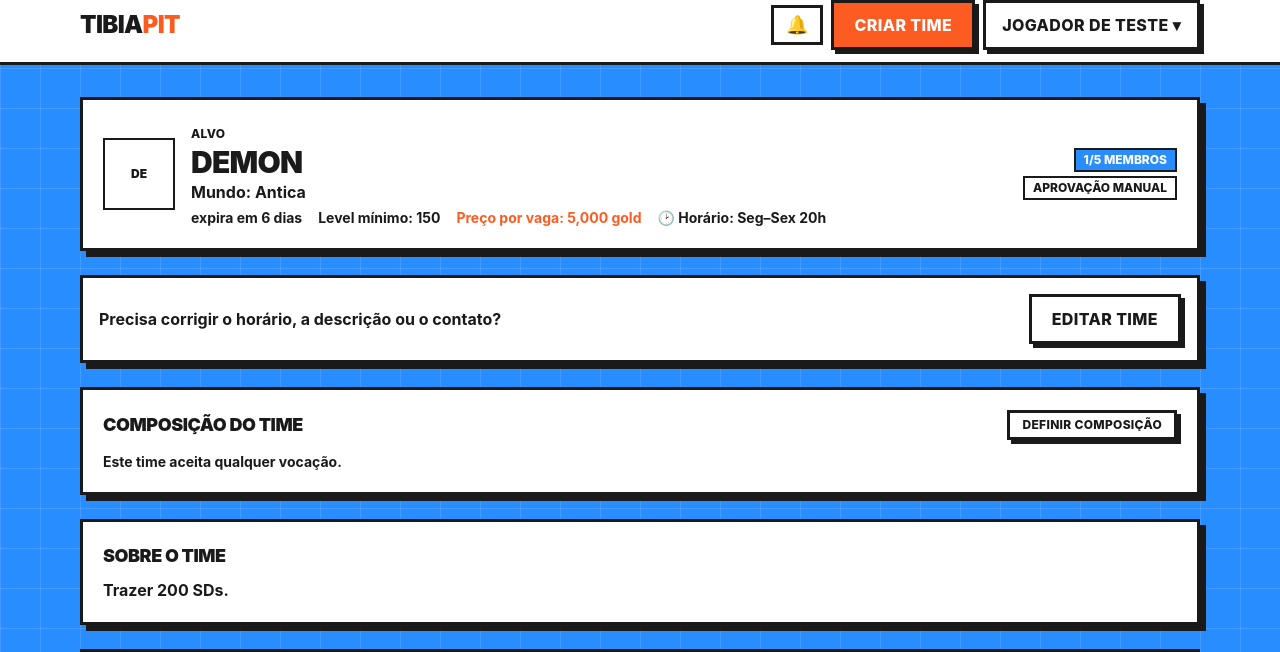
Scenario: TeamDetailPage — editar o time › recusa do backend aparece e o formulario continua aberto
Click the button "Editar time" at (1105, 319), box top-left (1029, 294), bottom-right (1181, 344)
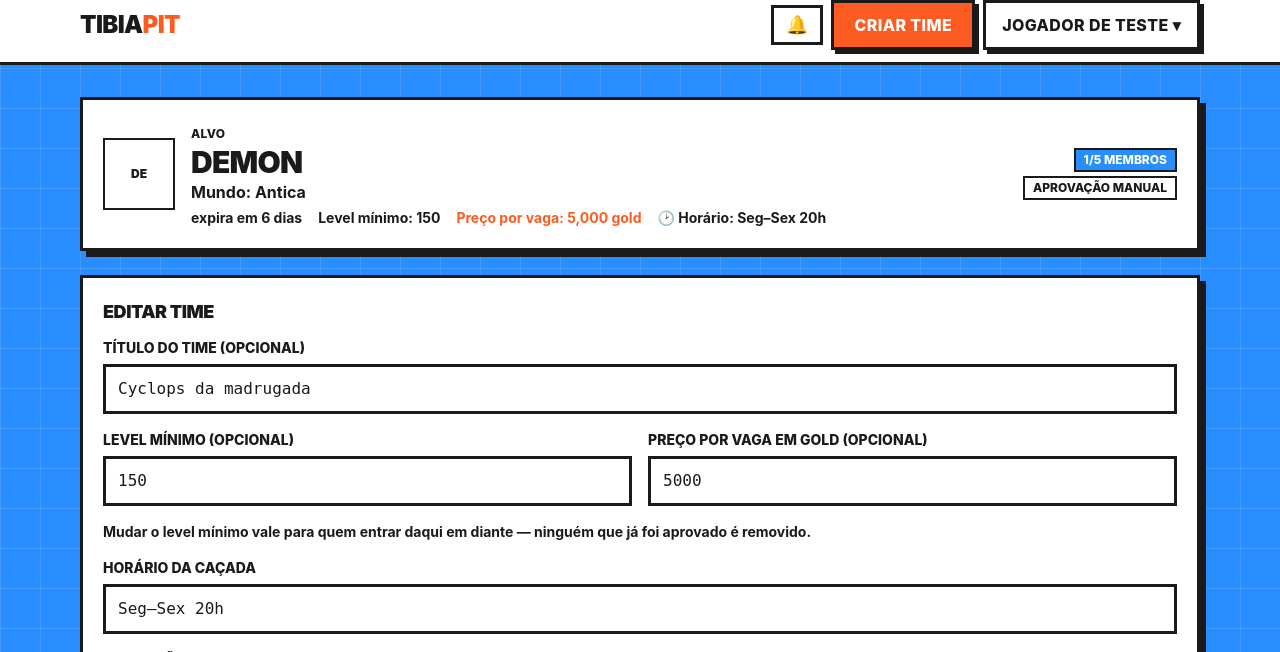
Clear the number field labelled "Level mínimo (opcional)" at (368, 481), box top-left (103, 456), bottom-right (632, 506)
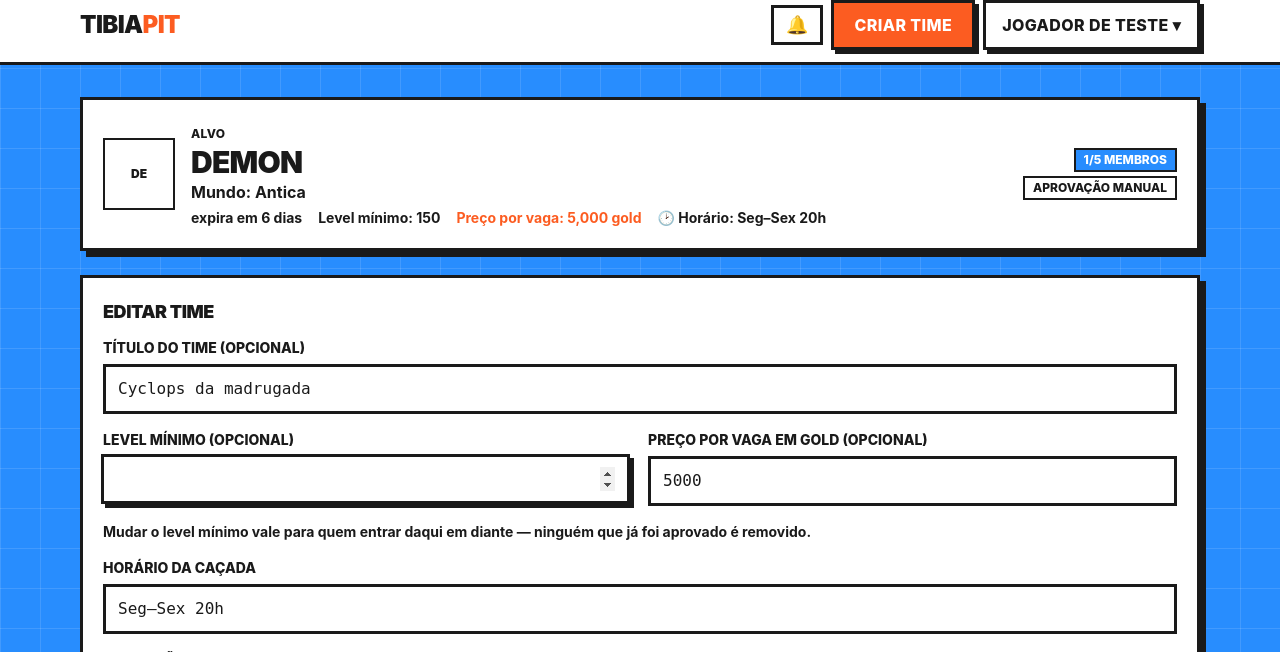
Type "900" into the number field labelled "Level mínimo (opcional)" at (366, 479), box top-left (101, 454), bottom-right (630, 504)
(page scrolled)
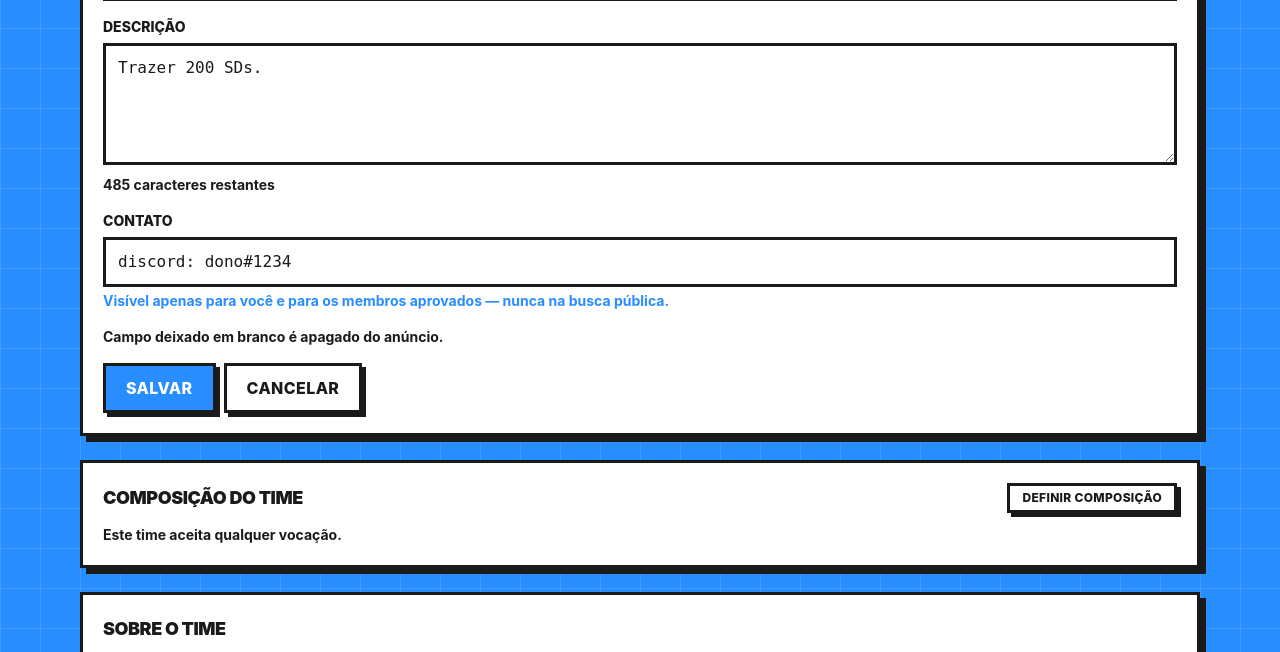
Click the button "Salvar" at (159, 388), box top-left (103, 363), bottom-right (216, 413)
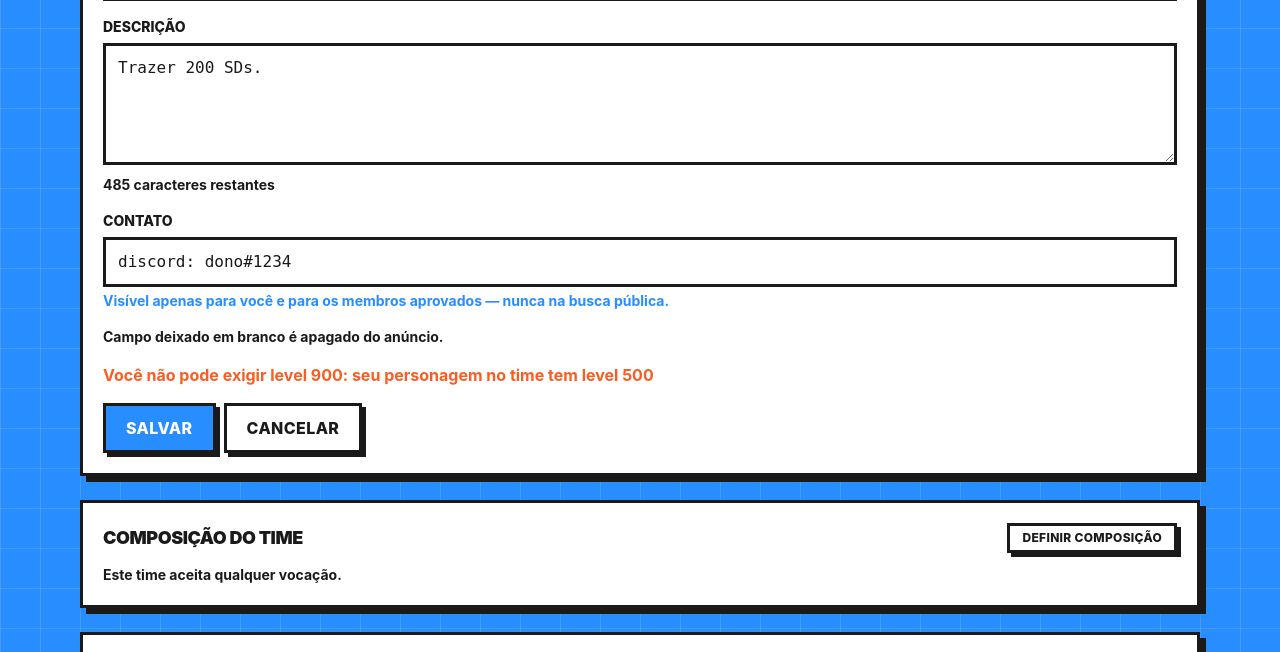
Expected: the button "Salvar" is shown, top-left (103, 403), bottom-right (216, 453)
Expected: the text "seu personagem no time tem level 500" is shown, top-left (103, 365), bottom-right (654, 385)
